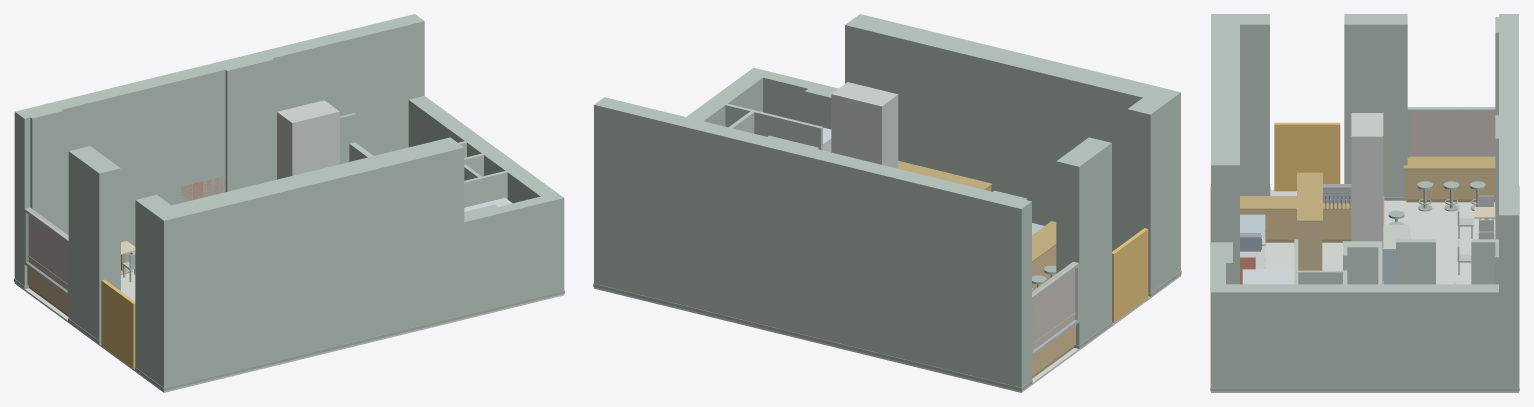
Rendered from BAR05_v18.glb.
3 renders of one model, left to right at view 1: azimuth 30°, elevation 25°; view 2: azimuth 150°, elevation 25°; view 3: azimuth 270°, elevation 25°, orthographic. The views are drawn at different scales.
Visible parts, largest first — view 1: Стена нижняя, Стена верхняя, Стена левая глухая 1, Пилон верх 2, Стена правая, Стена нижняя уступ 2, Стена нижняя уступ 1, Колонна · 1610×910, Пилон верх 1, Стена левая глухая 2, Входное полотно 1880, Окно · стекло (+6 smaller); view 2: Стена верхняя, Стена нижняя, Стена левая глухая 1, Стена левая глухая 2, Колонна · 1610×910, Входное полотно 1880, Окно · стекло, Стена правая, Окно · створка, Перегородка нижняя, Стена нижняя уступ 2, Плинтус (+7 smaller); view 3: Стена правая, Стена левая глухая 1, Стена верхняя, Стена нижняя, Пол, Стена левая глухая 2, Колонна · 1610×910, Входное полотно 1880, Окно · стекло, Окно · створка, Стойка у окна · 800×3130, Г-стойка, плечо Б · 800×4085 (+22 smaller).
Part boxes in pixels (x1,y1,x2,y2): Стена нижняя: (150, 137, 464, 387); Стена верхняя: (14, 14, 424, 285); Стена левая глухая 1: (68, 146, 120, 340); Пилон верх 2: (217, 51, 273, 191); Стена правая: (408, 96, 564, 294); Стена нижняя уступ 2: (499, 196, 547, 304); Стена нижняя уступ 1: (464, 204, 505, 314); Колонна · 1610×910: (277, 100, 339, 179); Пилон верх 1: (26, 107, 62, 230); Стена левая глухая 2: (135, 195, 170, 377); Входное полотно 1880: (101, 279, 135, 368); Окно · стекло: (25, 209, 68, 292); Стена верхняя: (594, 97, 1031, 387); Стена нижняя: (845, 14, 1180, 281); Стена левая глухая 1: (1056, 137, 1111, 345); Стена левая глухая 2: (1127, 98, 1165, 293); Колонна · 1610×910: (831, 82, 898, 168); Входное полотно 1880: (1112, 228, 1148, 322); Окно · стекло: (1032, 262, 1078, 352); Стена правая: (594, 67, 769, 284); Окно · створка: (1032, 262, 1074, 349); Перегородка нижняя: (725, 103, 822, 150); Стена нижняя уступ 2: (763, 72, 815, 122); Плинтус: (593, 283, 1032, 391); Стена правая: (1211, 284, 1518, 387); Стена левая глухая 1: (1344, 14, 1407, 197); Стена верхняя: (1499, 14, 1518, 387); Стена нижняя: (1211, 14, 1239, 284); Пол: (1211, 189, 1518, 392); Стена левая глухая 2: (1240, 14, 1269, 195); Колонна · 1610×910: (1351, 113, 1383, 283); Входное полотно 1880: (1274, 122, 1340, 191); Окно · стекло: (1408, 107, 1494, 156); Окно · створка: (1410, 108, 1495, 156); Стойка у окна · 800×3130: (1404, 169, 1495, 199); Г-стойка, плечо Б · 800×4085: (1240, 210, 1351, 239).
Size of the model in its own units: 13.61 by 5.58 by 8.81.
